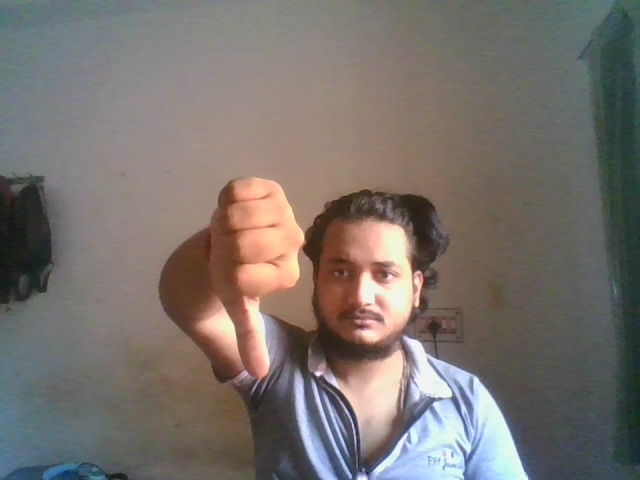ThumbsDown: (206, 176, 306, 379)
